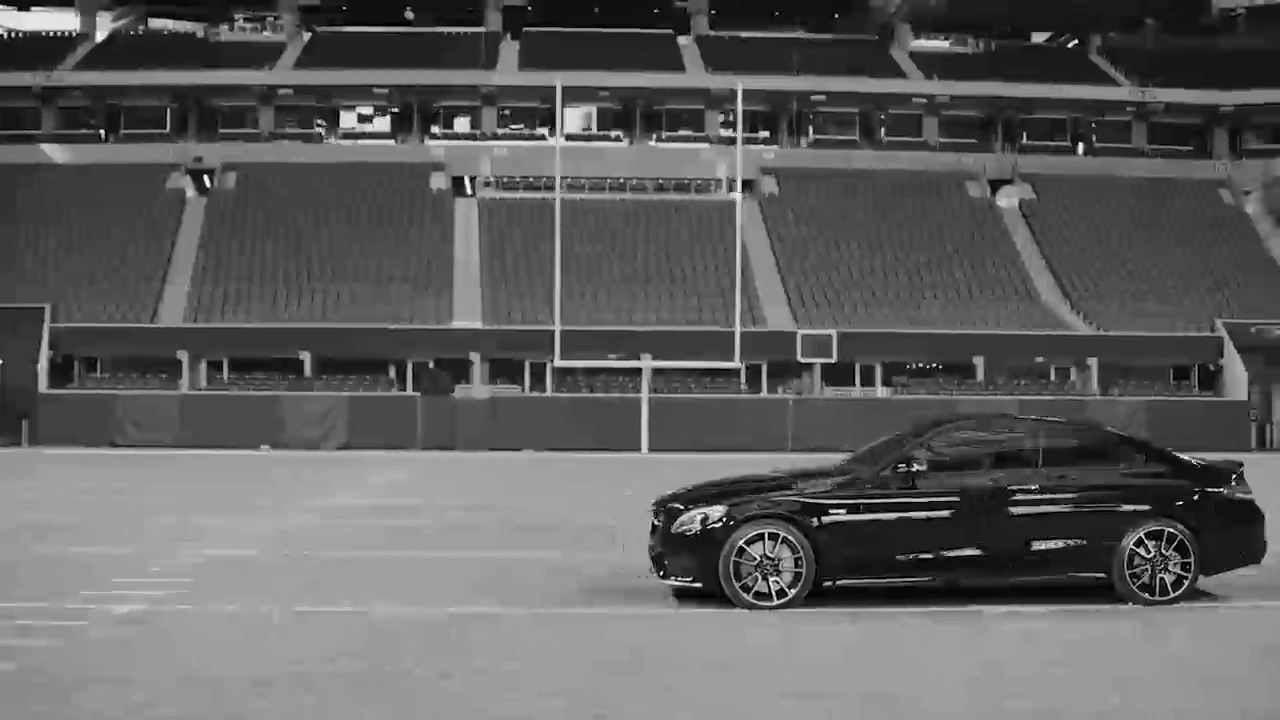car: (645, 406, 1280, 609)
